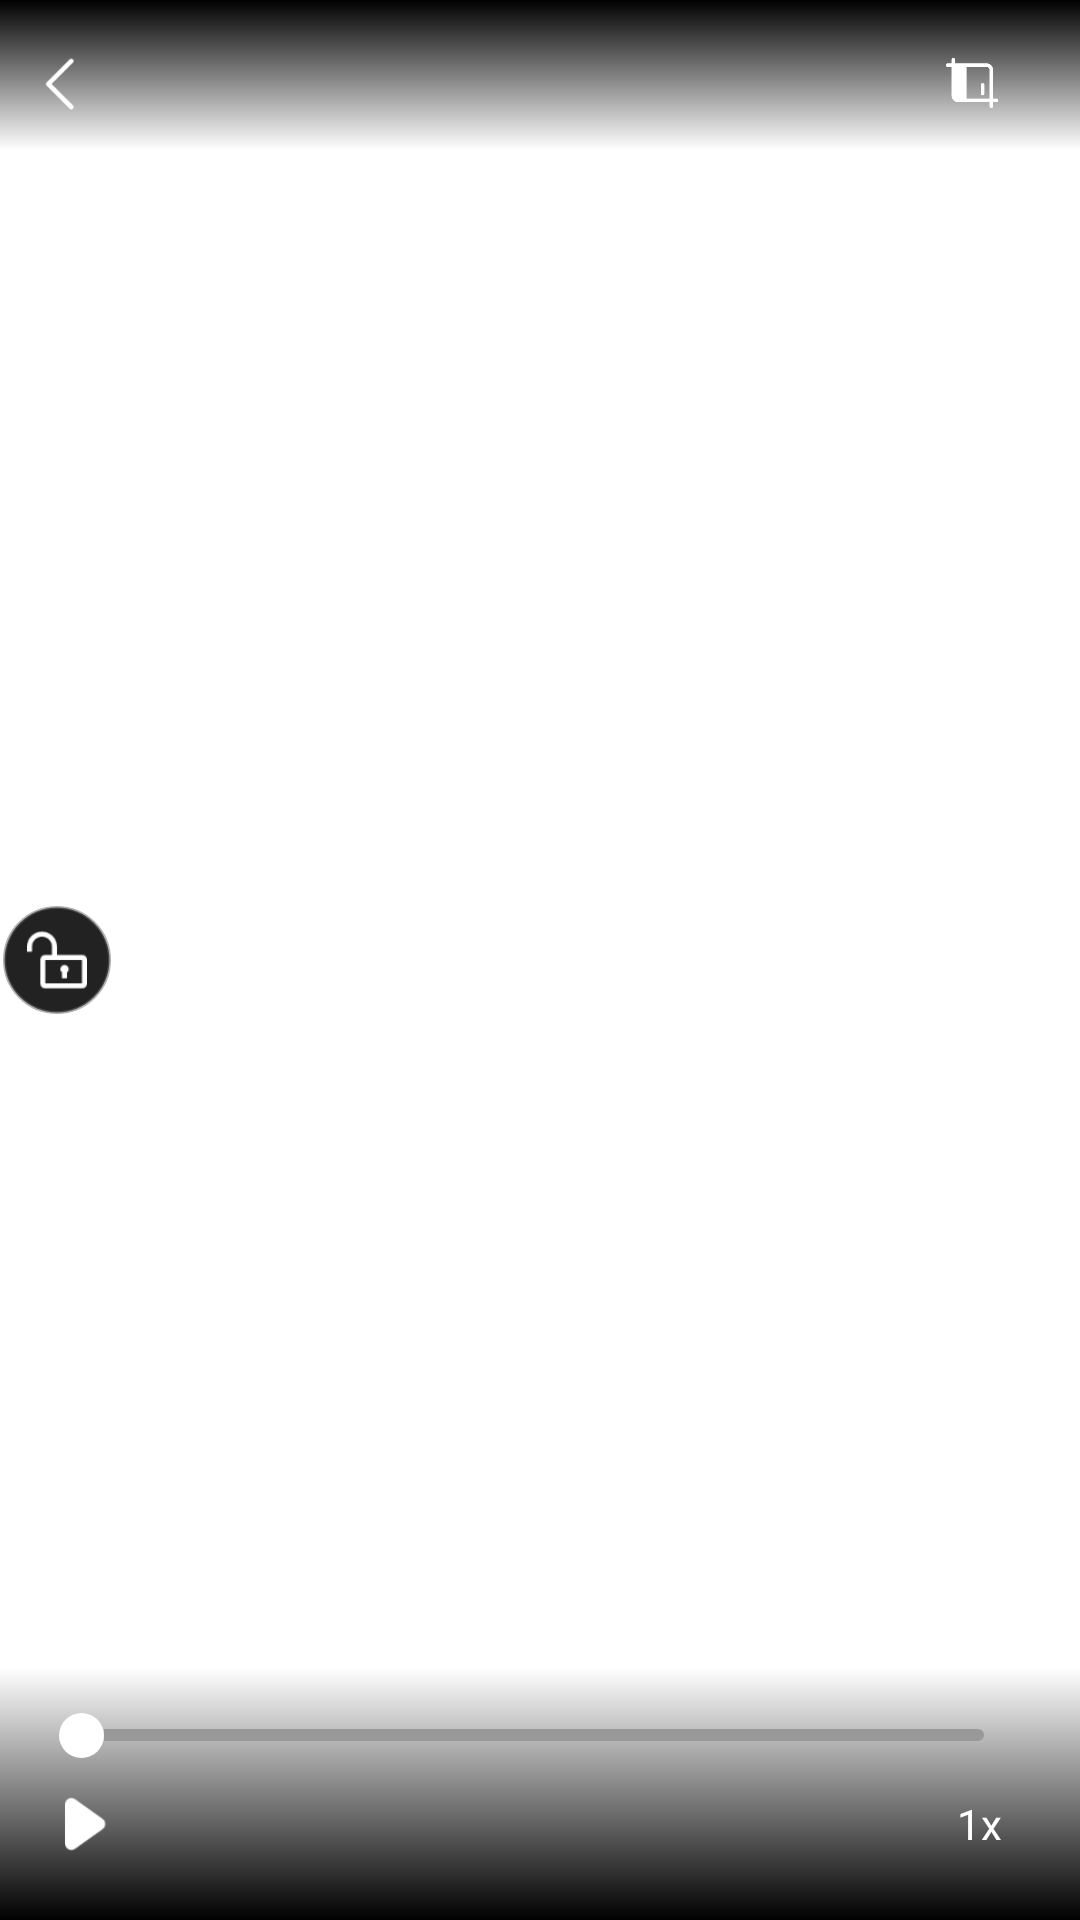

Where to tap for icons on this 1080 × 1920 app screen, as [x,y]:
video function unlock: [57,960]
